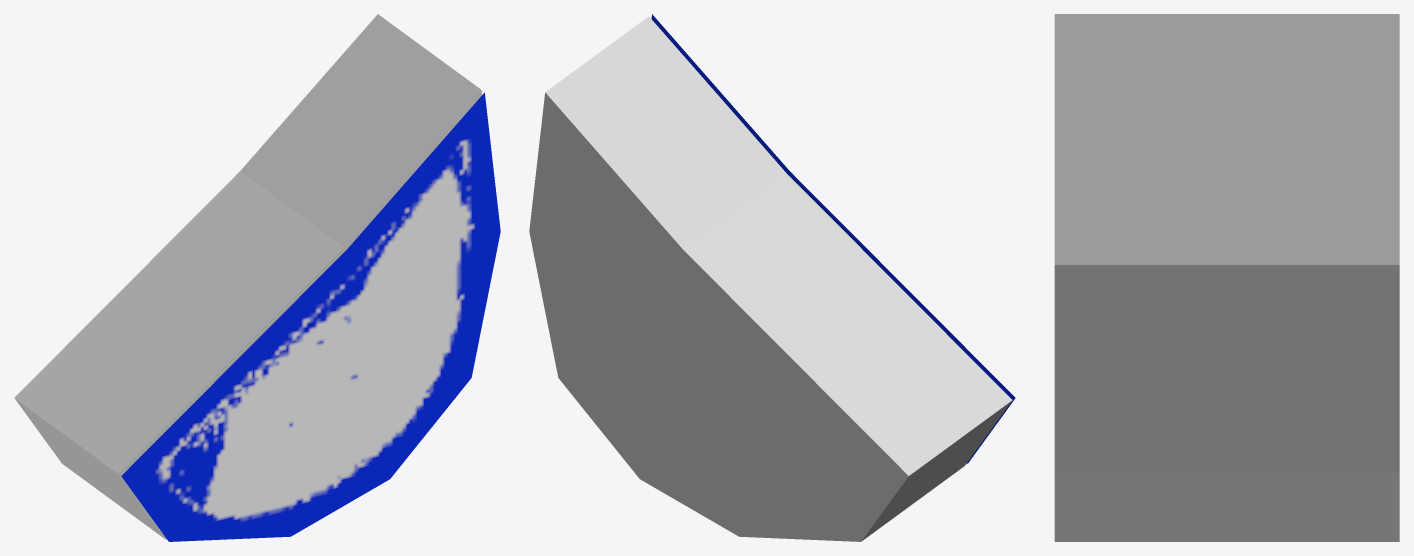
3 renders of one model, left to right at view 1: azimuth 30°, elevation 25°; view 2: azimuth 150°, elevation 25°; view 3: azimuth 270°, elevation 25°, orthographic. The views are drawn at different scales.
Visible parts, largest first — view 1: In_7_1, In_7_0; view 2: In_7_0, In_7_1; view 3: In_7_0.
Part boxes in pixels (<box>): In_7_1: <box>121,92,500,541</box>; In_7_0: <box>14,14,482,539</box>; In_7_0: <box>529,16,1012,541</box>; In_7_1: <box>651,14,1015,463</box>; In_7_0: <box>1054,14,1399,541</box>.
Size of the model in its own units: 1.06 by 1.06 by 0.515.
2 materials, 1 textured.
